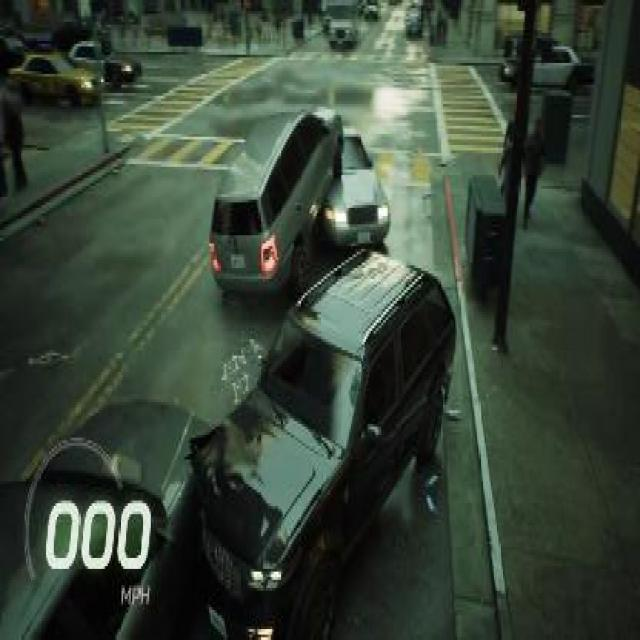accident: (1, 243, 458, 638), (210, 96, 392, 295)
